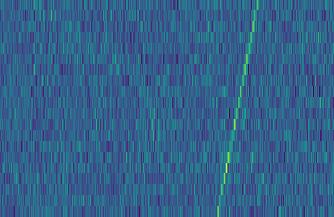signal: (214, 0, 265, 217)
